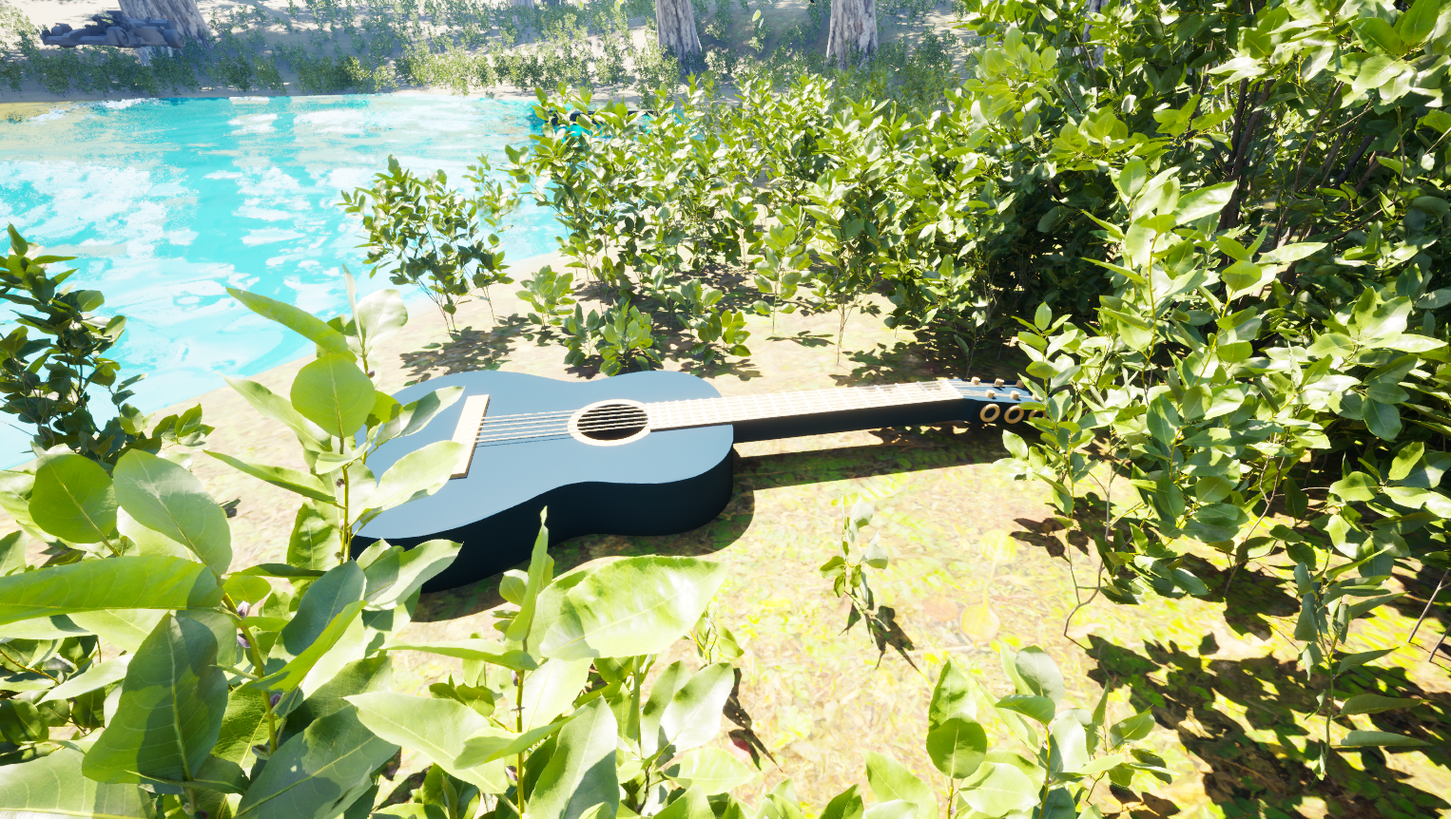Guitar: (262, 327, 1153, 611)
